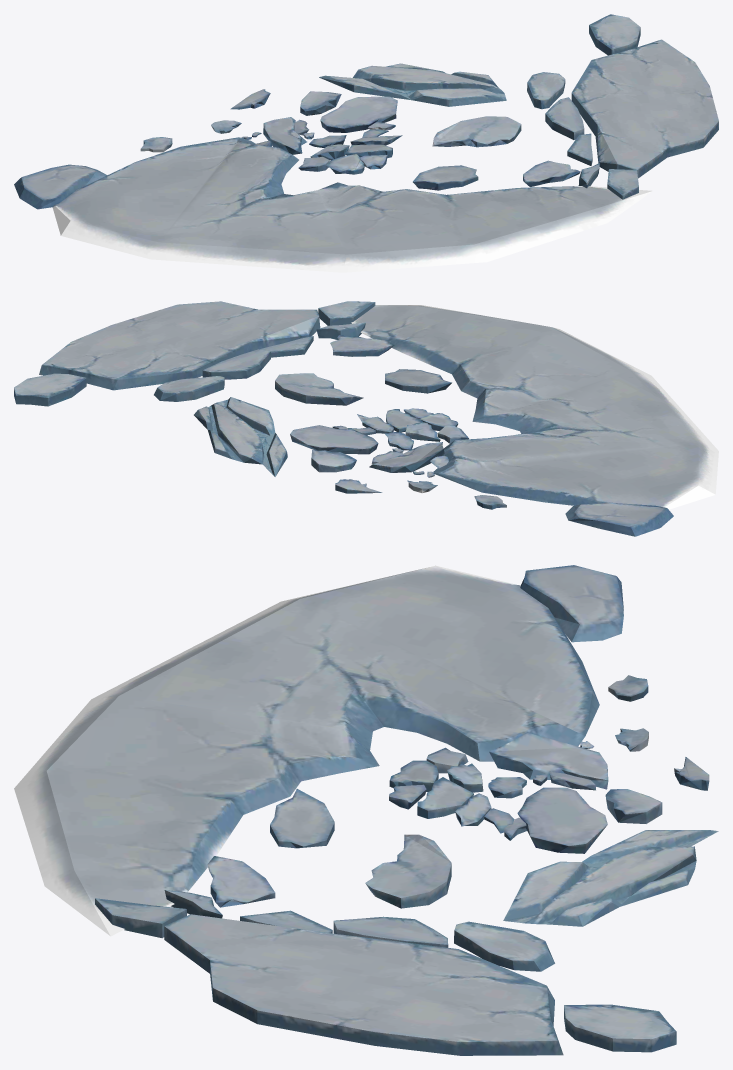
Rendered from map_114_shitou_9.fbx.
3 renders of one model, top to bottom at view 1: azimuth 30°, elevation 25°; view 2: azimuth 150°, elevation 25°; view 3: azimuth 270°, elevation 25°, orthographic. The views are drawn at different scales.
Visible parts, largest first — view 1: map_114_shitou_9; view 2: map_114_shitou_9; view 3: map_114_shitou_9.
Boxes of the visible parts, x1=… form: map_114_shitou_9: x1=14, y1=14, x2=718, y2=272; map_114_shitou_9: x1=14, y1=301, x2=718, y2=536; map_114_shitou_9: x1=14, y1=565, x2=718, y2=1055.
Bounding box in the file's own units: 8.5 × 0.2024 × 5.23.
